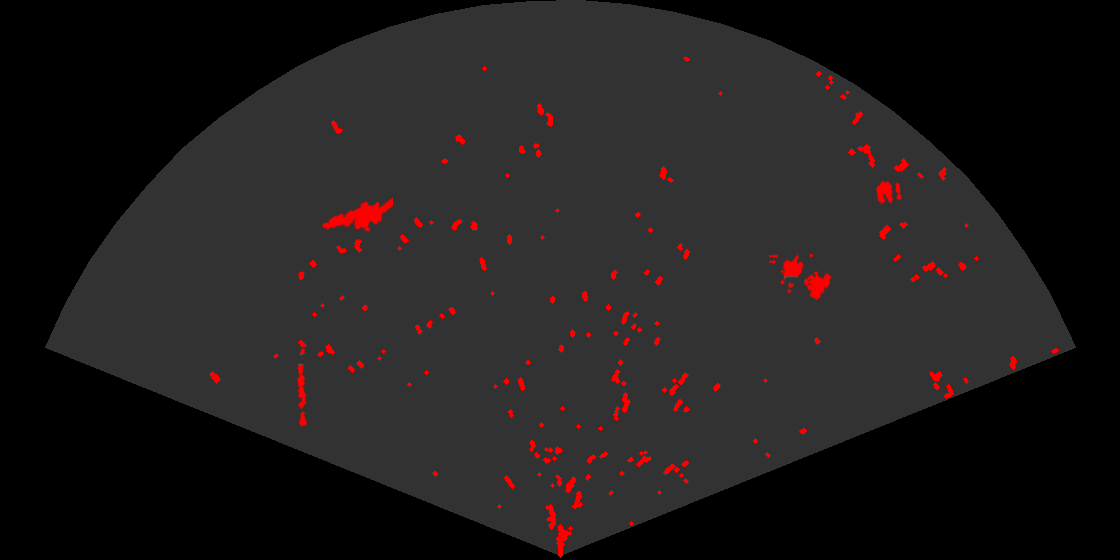ball: (875, 179, 903, 206)
cage: (769, 254, 833, 302)
chain: (295, 346, 309, 427)
frogman: (320, 195, 393, 233)
